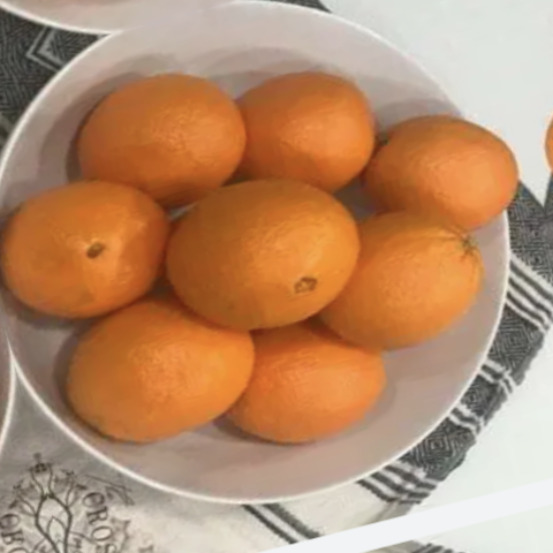orange: (151, 152, 382, 355), (45, 267, 281, 460), (211, 272, 424, 484), (59, 34, 267, 231), (0, 149, 207, 337), (357, 89, 540, 260)
